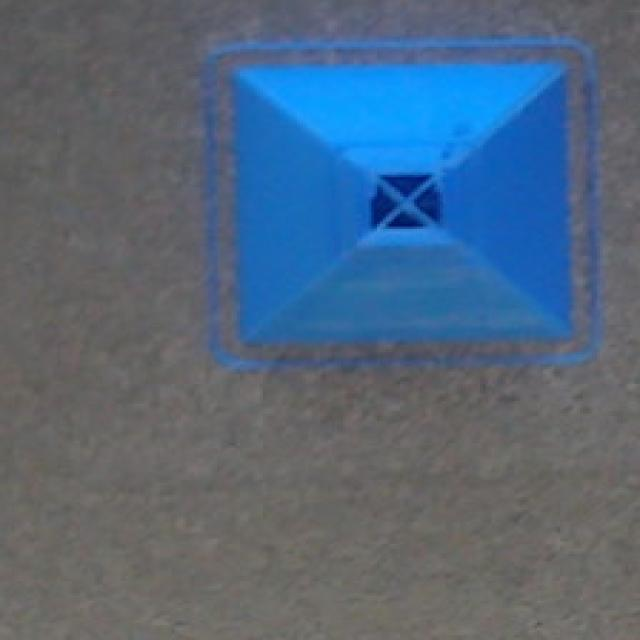mistake: (220, 59, 573, 340)
